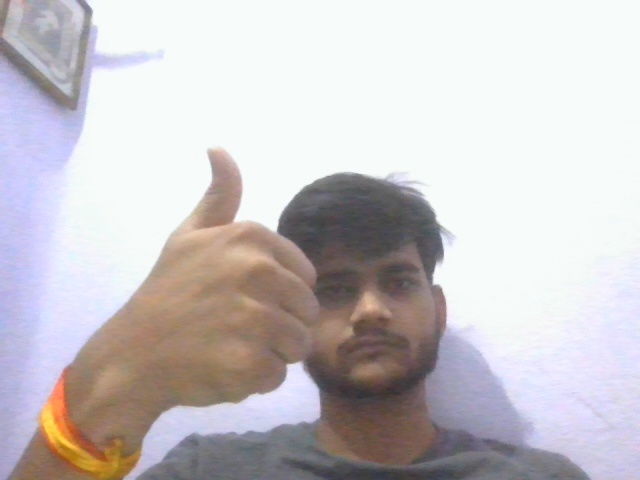thanks: (92, 134, 330, 414)
